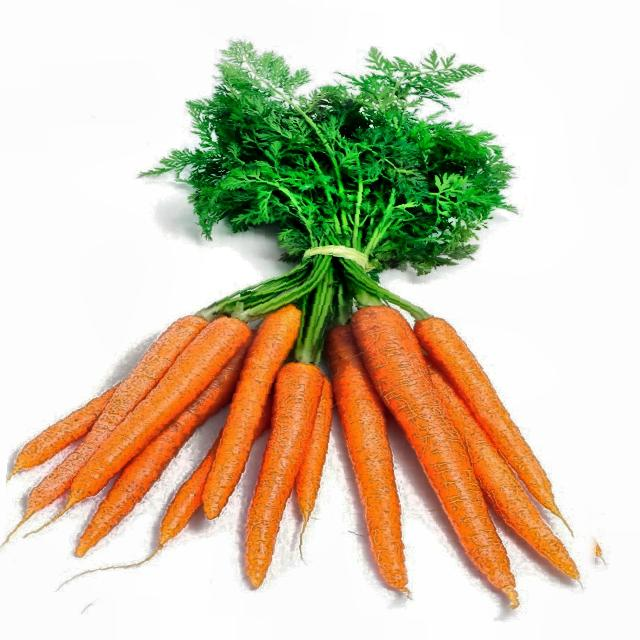carrot: (9, 0, 628, 635)
